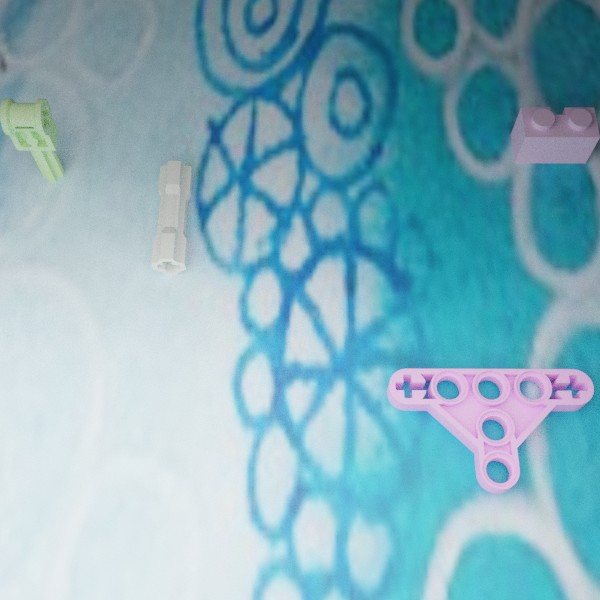lego: (387, 368, 593, 493), (0, 98, 64, 182), (510, 107, 600, 163), (151, 160, 193, 274)
